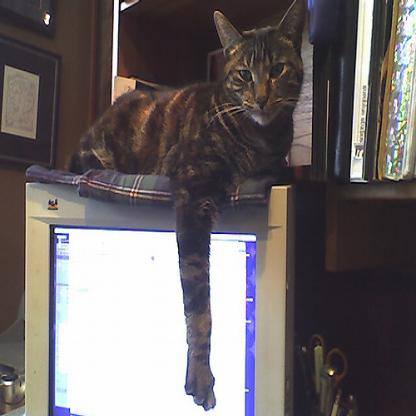cat: (69, 1, 309, 411)
tvmonitor: (25, 182, 294, 415)
